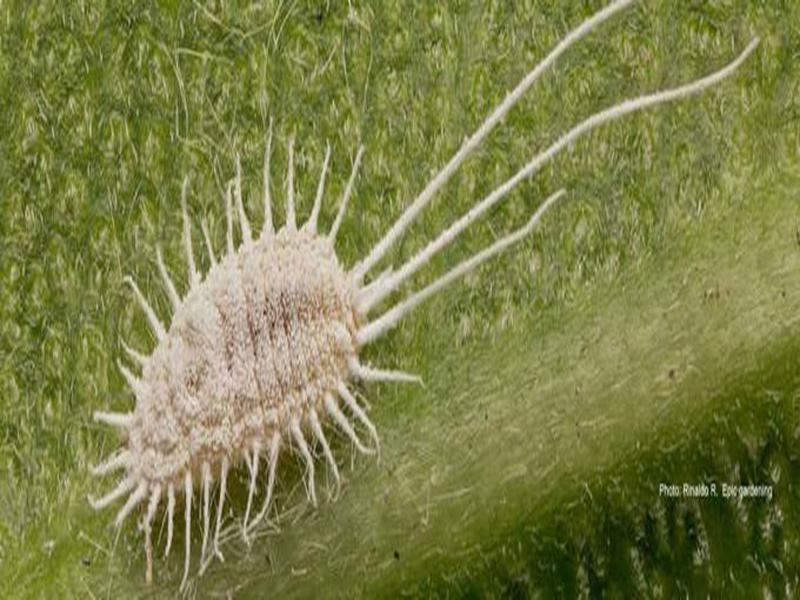Mealy_bug: (40, 184, 416, 544)
